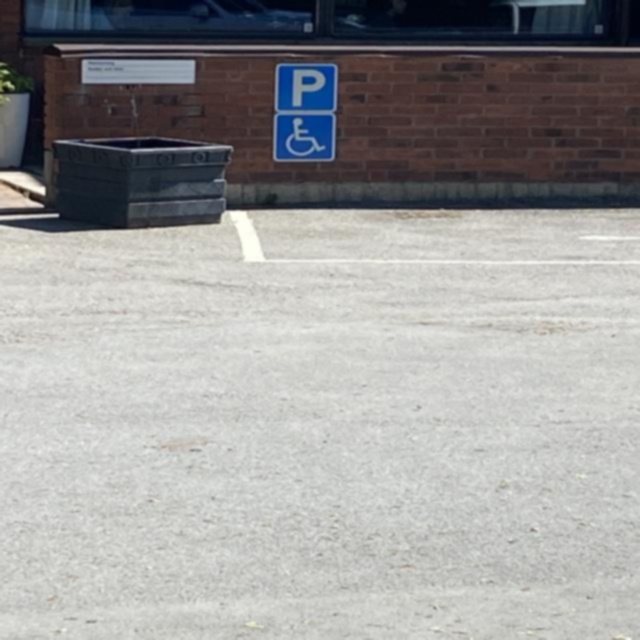P-skylt: (276, 64, 335, 112)
